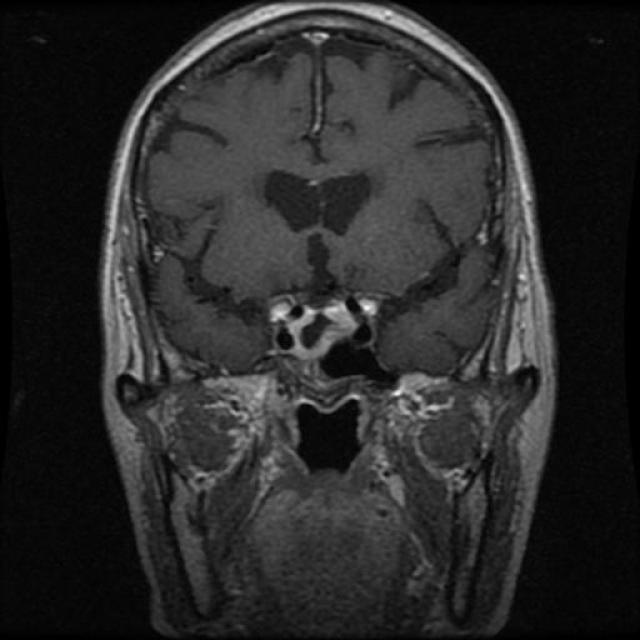brain_tumor: (270, 291, 362, 364)
